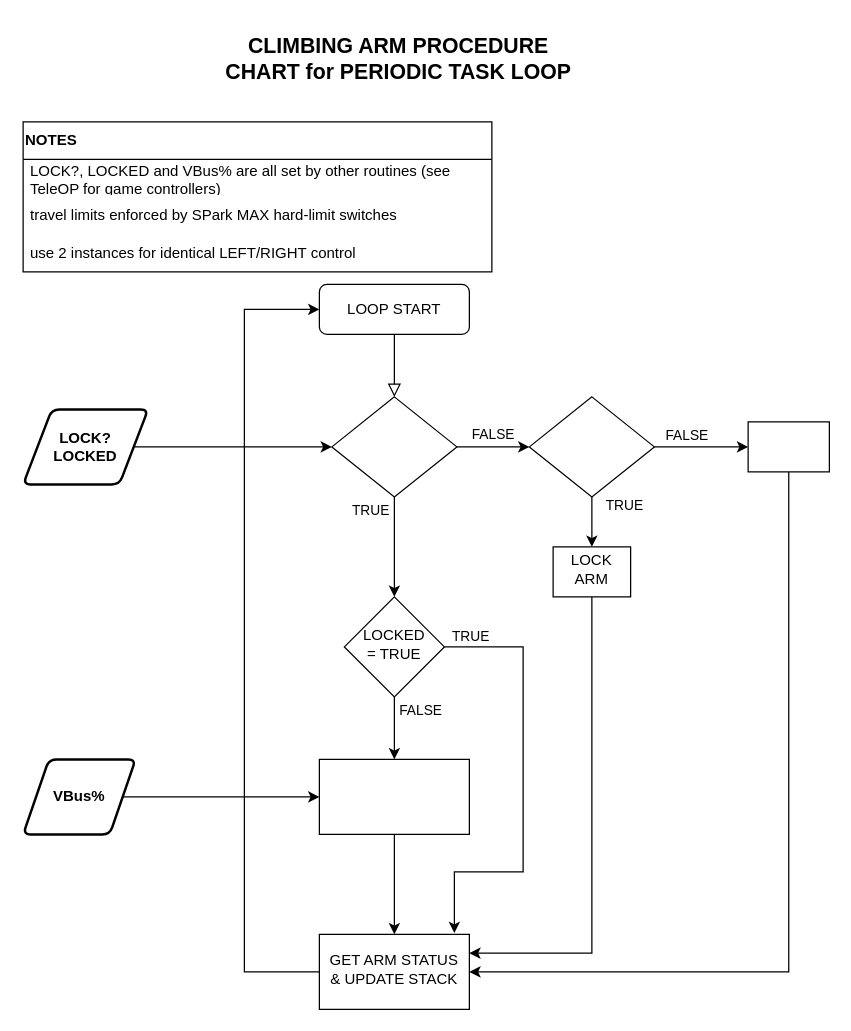
Image size: 851x1031. Some labels were removed from this diagram. The centre of each missing label's shape, as x and y in pixels:
LOCK? = LOCKED: the point at 394,446
LOCK? = TRUE: the point at 591,446
RUN ARM MOTOR: the point at 393,796
UNLOCK ARM: the point at 788,446
